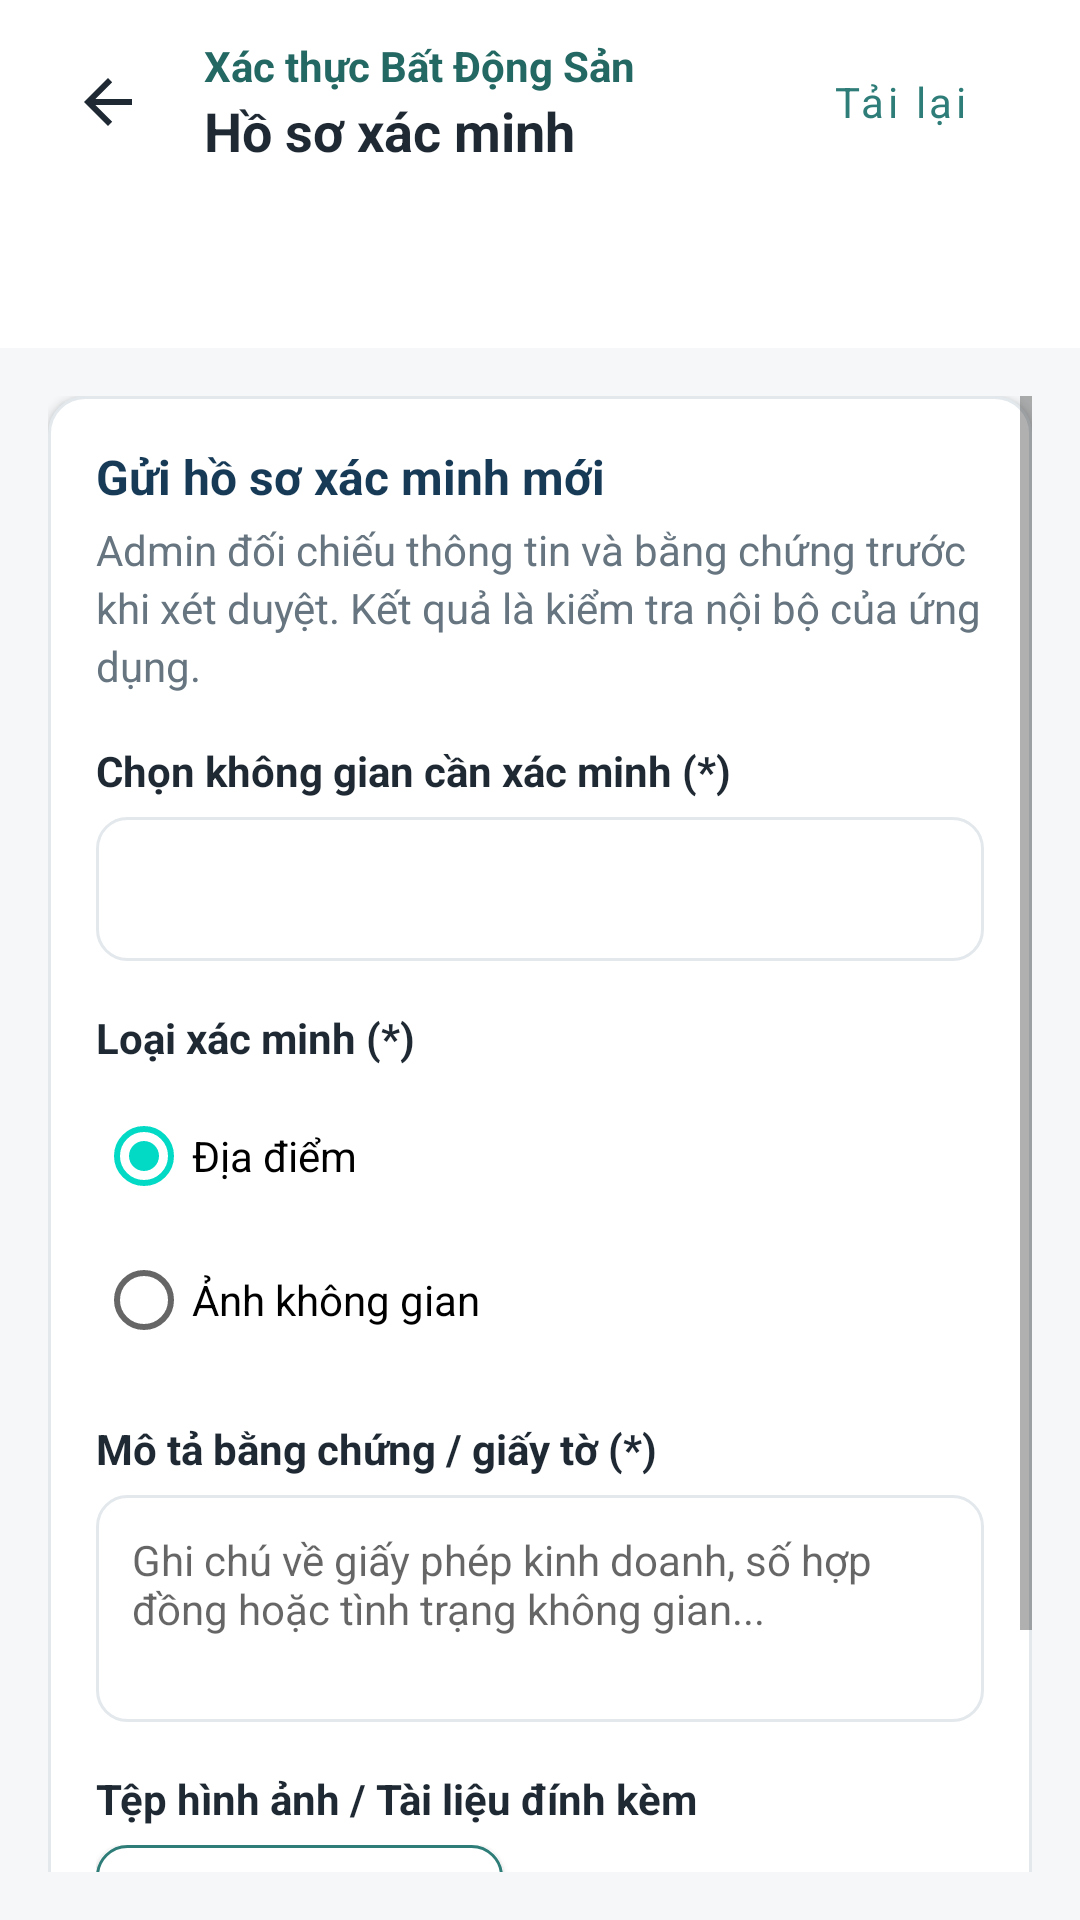

Icon bounding boxes for this 1080×1920 phone screenshot, format (x1, y1, x2, y2):
Về tổng quan: (84, 78, 132, 126)
